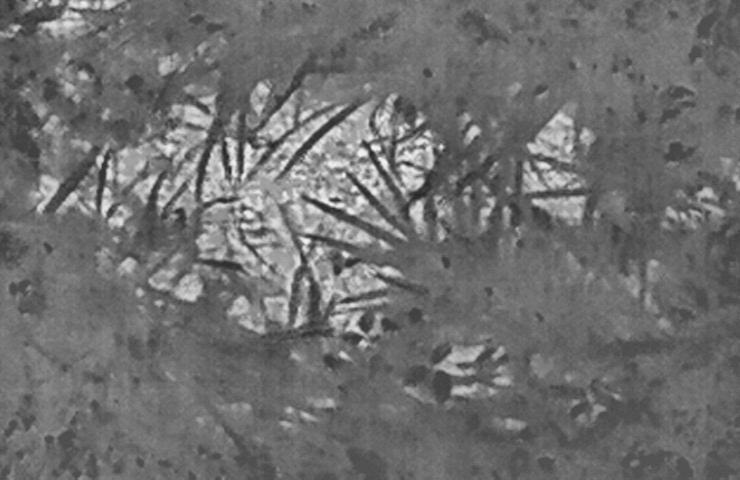landmines: (78, 59, 468, 360)
